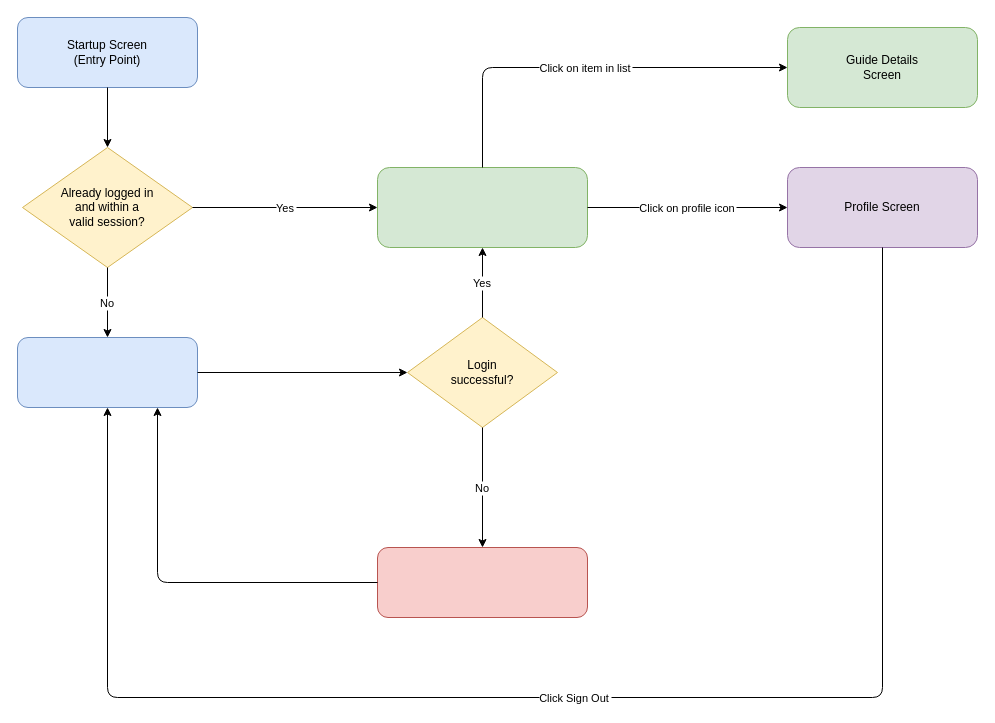
Some shapes in this 995 by 723 pixel diagram are drawn without their labels. The centre of each missing label's shape, as x and y in pixels:
"Guides List Screen" goes at (482,207).
"Login Screen" goes at (107,372).
"Show error message and stay on Login Screen" goes at (482,582).
